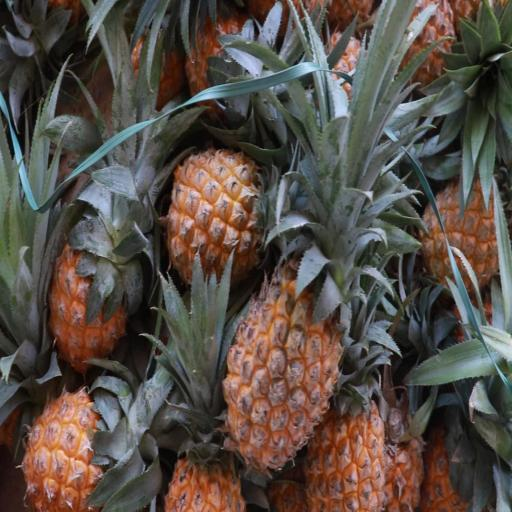Pineapple - v8 v1: (215, 236, 361, 479), (162, 138, 302, 298), (42, 206, 150, 378), (16, 374, 149, 512), (162, 366, 252, 512), (416, 165, 506, 310), (180, 0, 283, 126), (300, 367, 388, 512)
